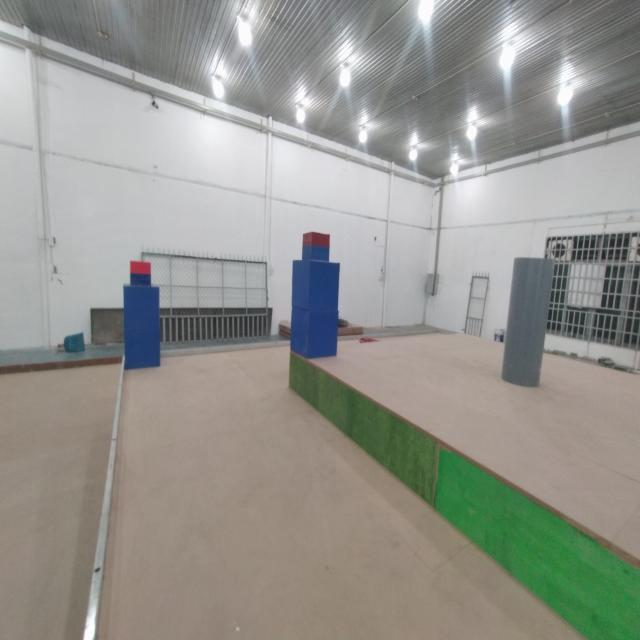earth_block: (288, 308, 342, 359), (290, 260, 342, 310), (122, 327, 163, 372), (122, 284, 162, 327)
sky_block: (300, 230, 332, 262), (129, 260, 152, 285)
